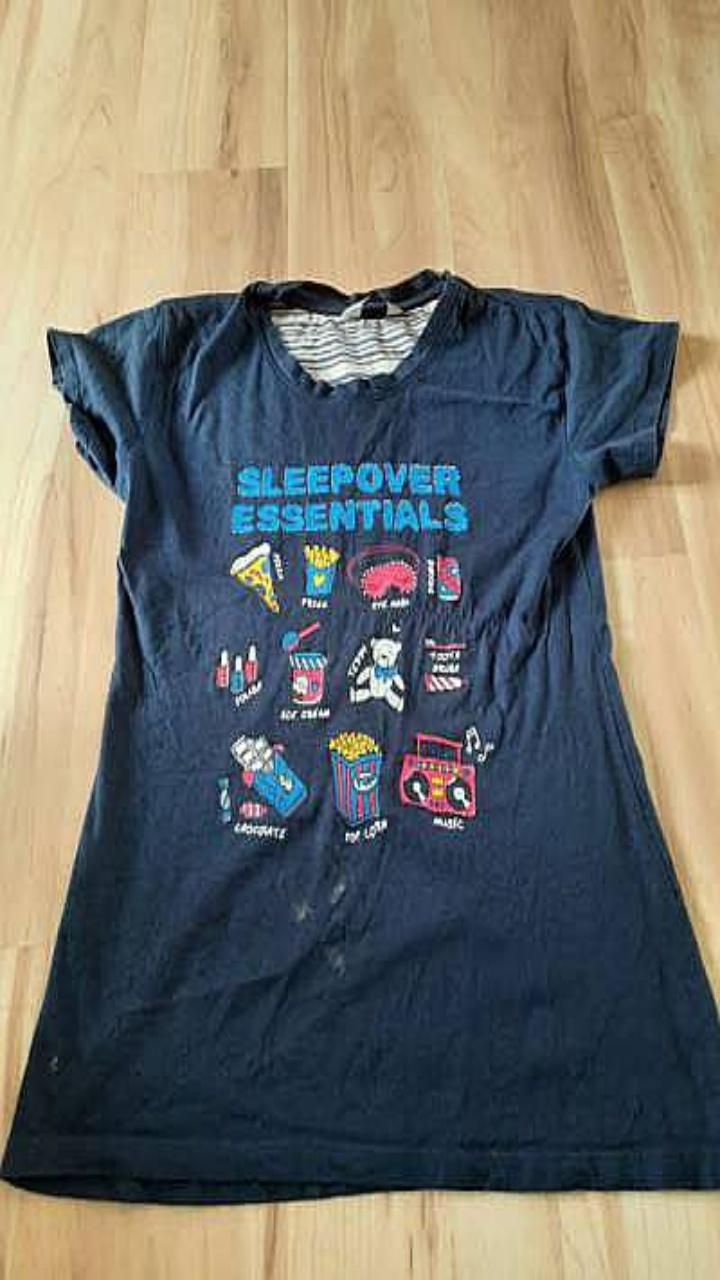T-Shirt: (0, 269, 719, 1202)
